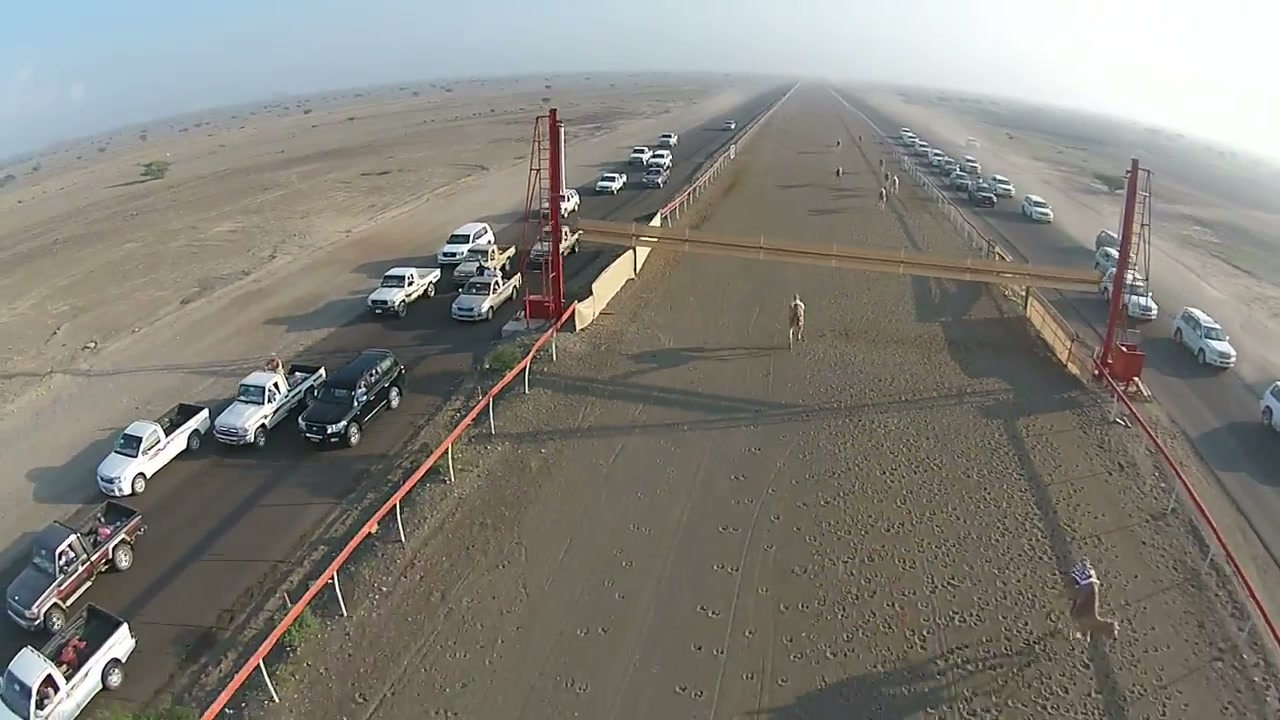animal_foot_print: (820, 387, 1079, 693), (689, 400, 775, 682), (549, 482, 651, 717)
